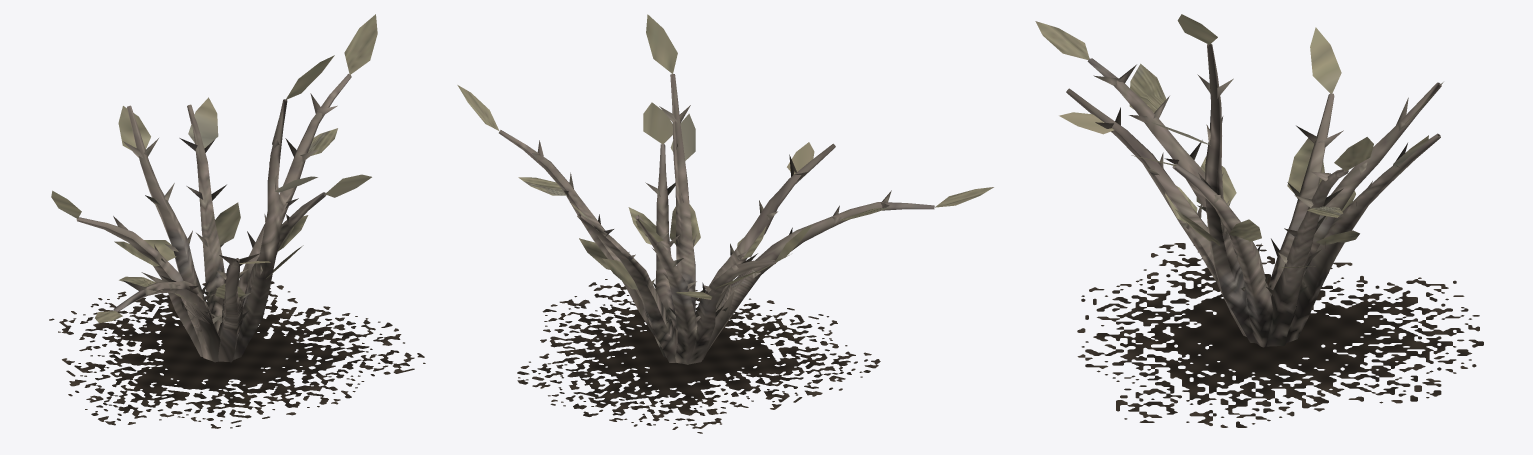
Rendered from bush_thorn_02.glb.
3 renders of one model, left to right at view 1: azimuth 30°, elevation 25°; view 2: azimuth 150°, elevation 25°; view 3: azimuth 270°, elevation 25°, orthographic. The views are drawn at different scales.
Parts seen in each view (by area): view 1: bush_thorn_02; view 2: bush_thorn_02; view 3: bush_thorn_02.
Boxes of the visible parts, x1,y1,x2,y2 form: bush_thorn_02: [49, 14, 425, 428]; bush_thorn_02: [457, 14, 993, 433]; bush_thorn_02: [1035, 14, 1483, 427].
Bounding box in the file's own units: 1.35 × 0.975 × 1.17.
2 materials, 2 textured.
